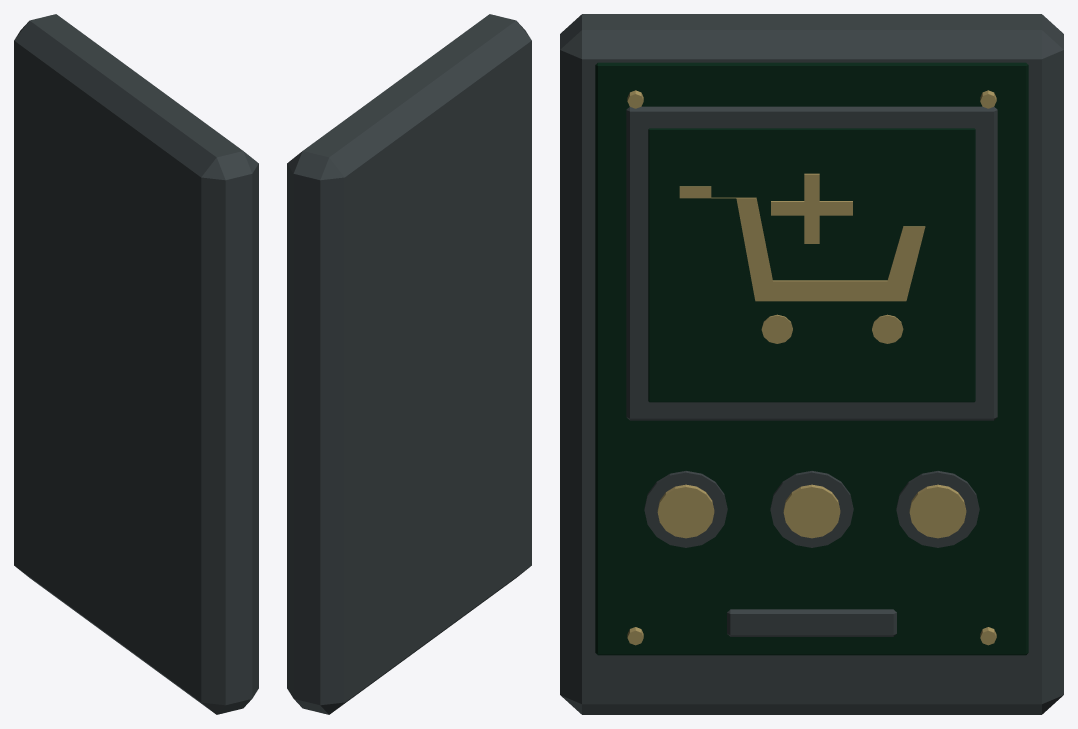
File: SM_TruckPanel_A.fbx
3 renders of one model, left to right at view 1: azimuth 30°, elevation 25°; view 2: azimuth 150°, elevation 25°; view 3: azimuth 270°, elevation 25°, orthographic. The views are drawn at different scales.
Parts seen in each view (by area): view 1: SM_TruckPanel_A; view 2: SM_TruckPanel_A; view 3: SM_TruckPanel_A.
Part boxes in pixels (x1,y1,x2,y2): SM_TruckPanel_A: (14, 14, 258, 714); SM_TruckPanel_A: (287, 14, 531, 714); SM_TruckPanel_A: (560, 14, 1063, 714).
Size of what is drawn, in the model's own units: 80 by 15 by 120.
